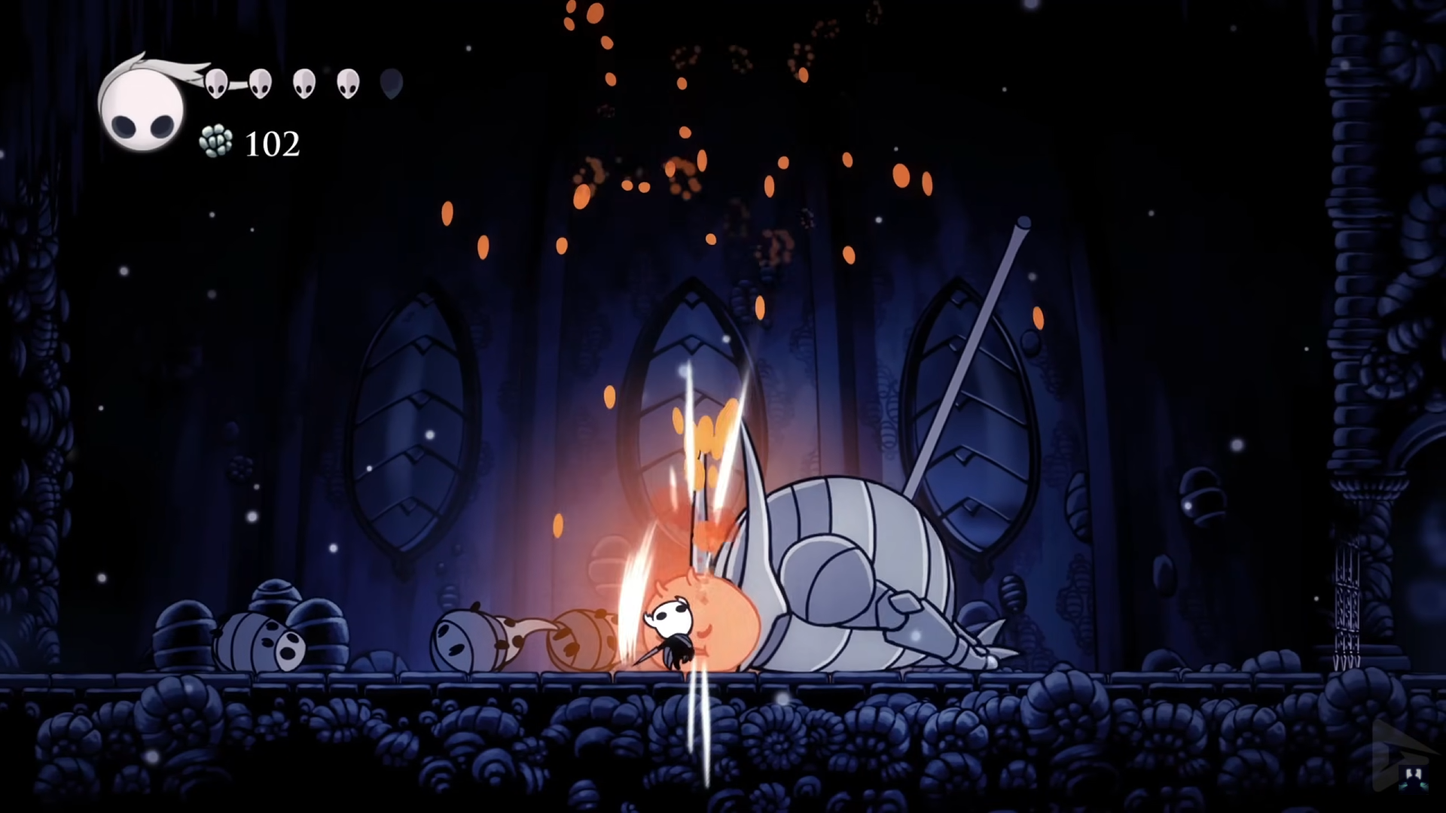HK: (640, 595, 700, 674)
